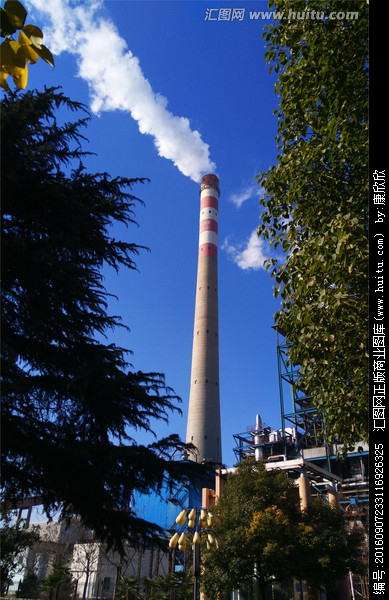dust: (72, 30, 230, 195)
